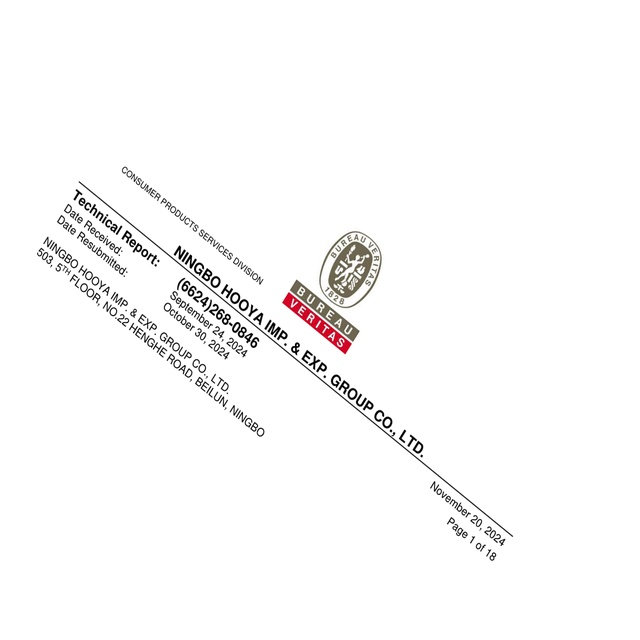bureau_veritas: (281, 227, 384, 357)
